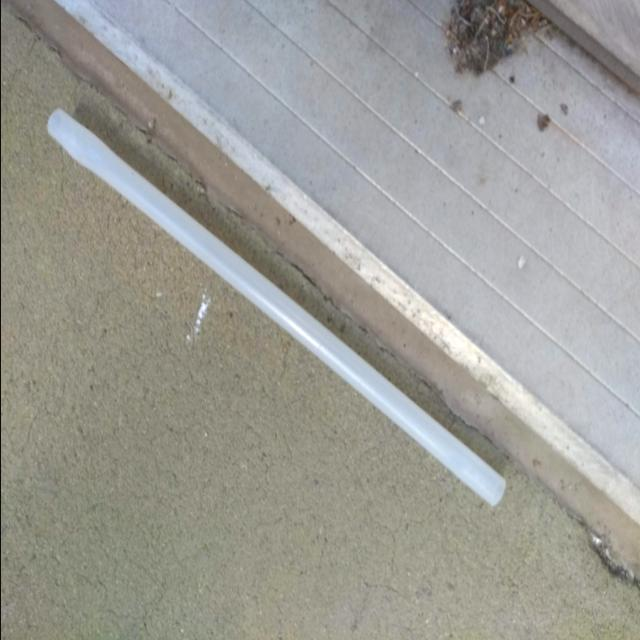Plastic straw: (47, 109, 505, 507)
